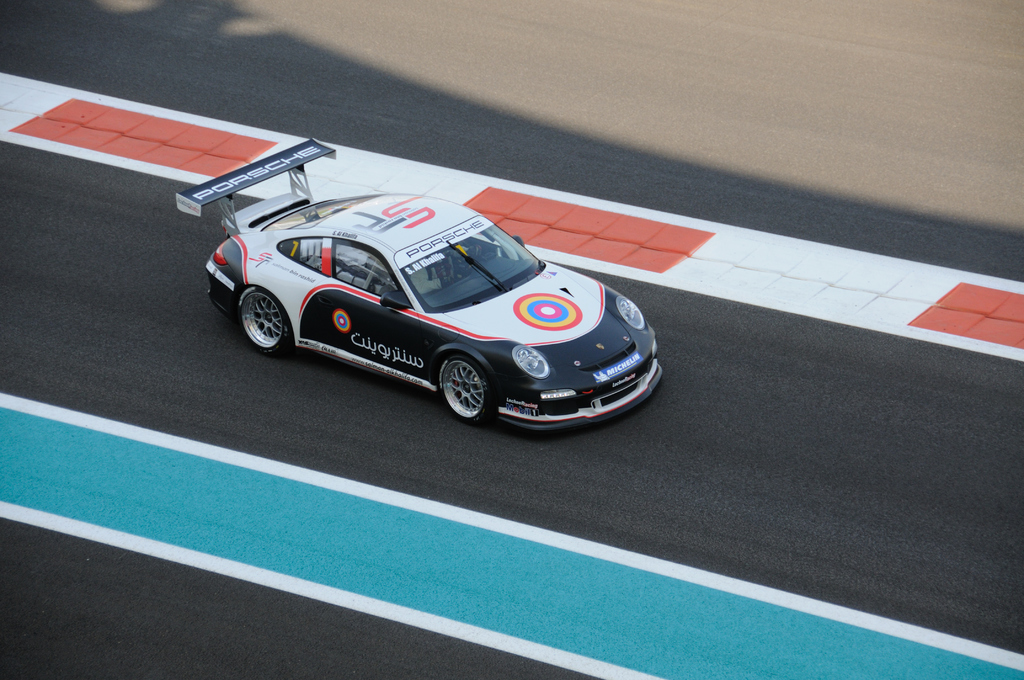Car: (209, 182, 685, 432)
